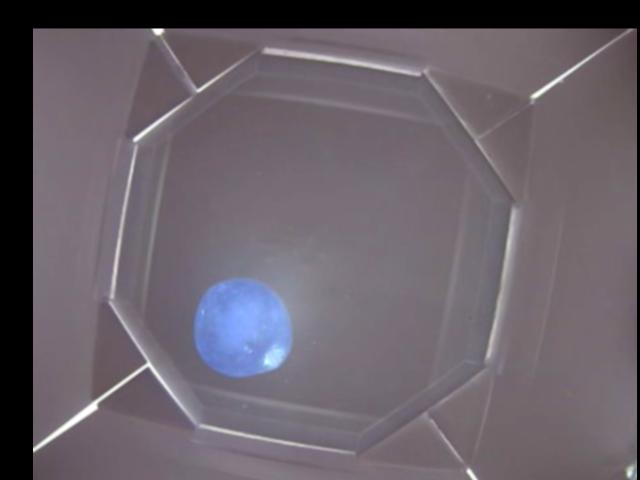Potato: (192, 277, 291, 377)
